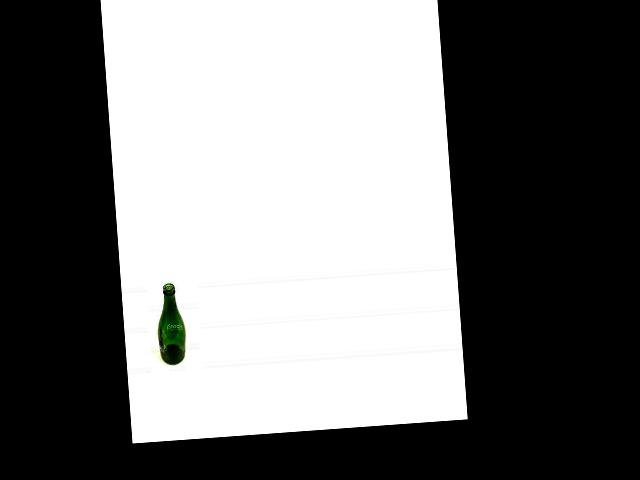beer: (154, 282, 188, 365)
